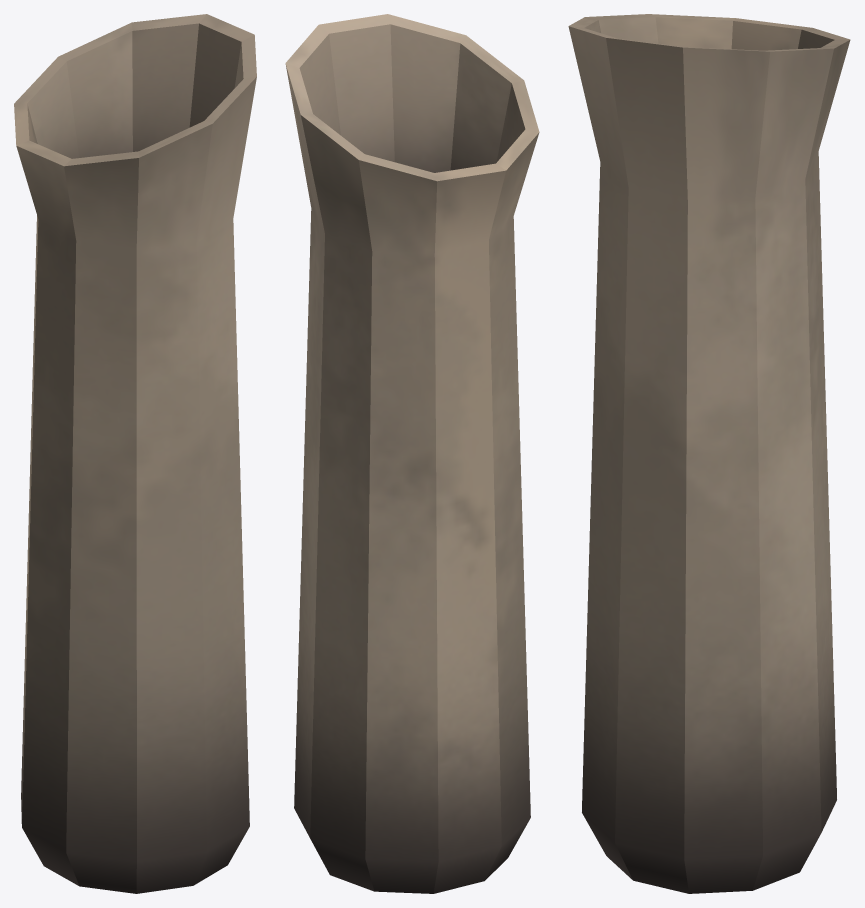
The model's file is SM_vase.fbx.
3 views of the same model, side by side, from view 1: azimuth 30°, elevation 25°; view 2: azimuth 150°, elevation 25°; view 3: azimuth 270°, elevation 25° (orthographic). The views are drawn at different scales.
Parts seen in each view (by area): view 1: SM_vase; view 2: SM_vase; view 3: SM_vase.
Boxes of the visible parts, x1,y1,x2,y2 form: SM_vase: [14, 14, 256, 893]; SM_vase: [285, 14, 539, 893]; SM_vase: [568, 14, 850, 893].
Size of the model in its own units: 0.4966 by 1.78 by 0.5291.
